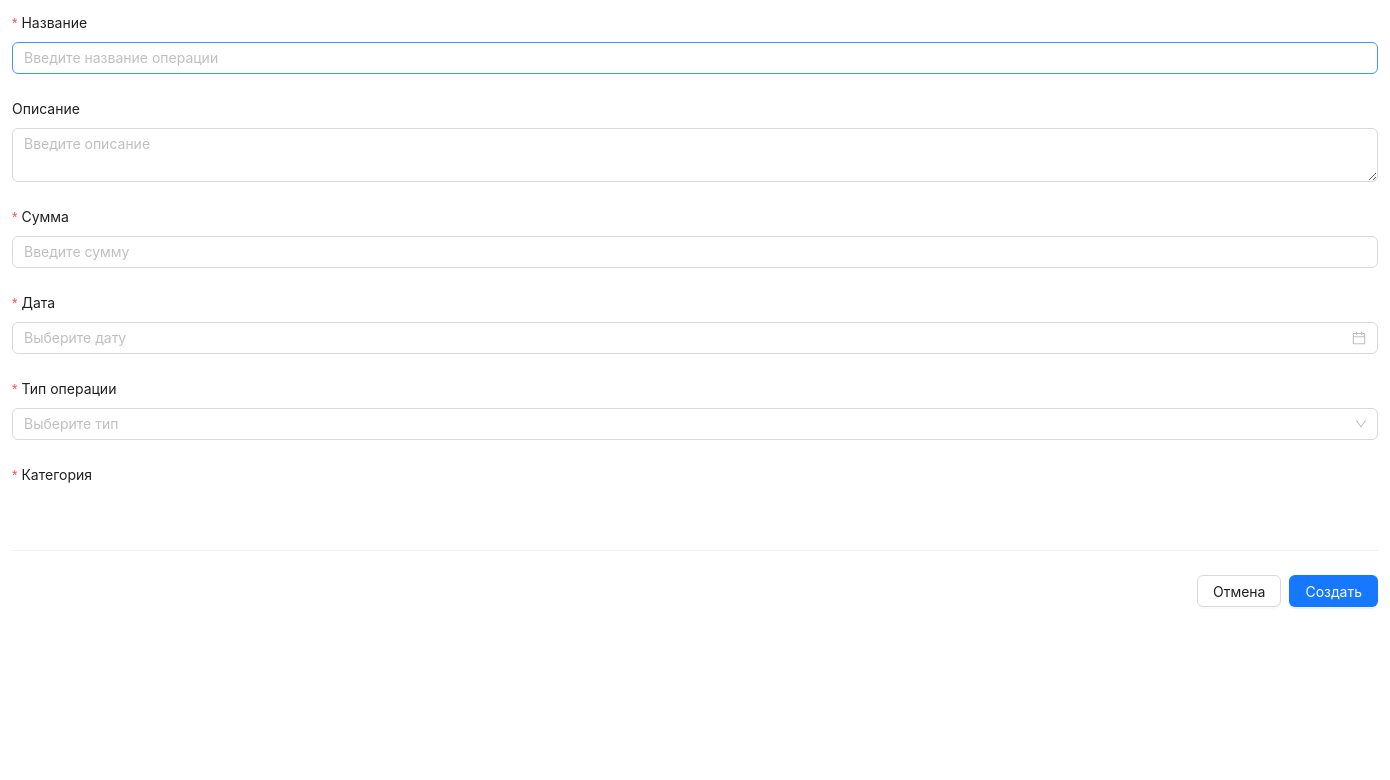
Scenario: OperationForm › Валидация формы › должен показывать ошибку при пустом названии
The image size is (1390, 780).
Click the button "Создать" at x=1334, y=591, box [1290,575,1378,607]
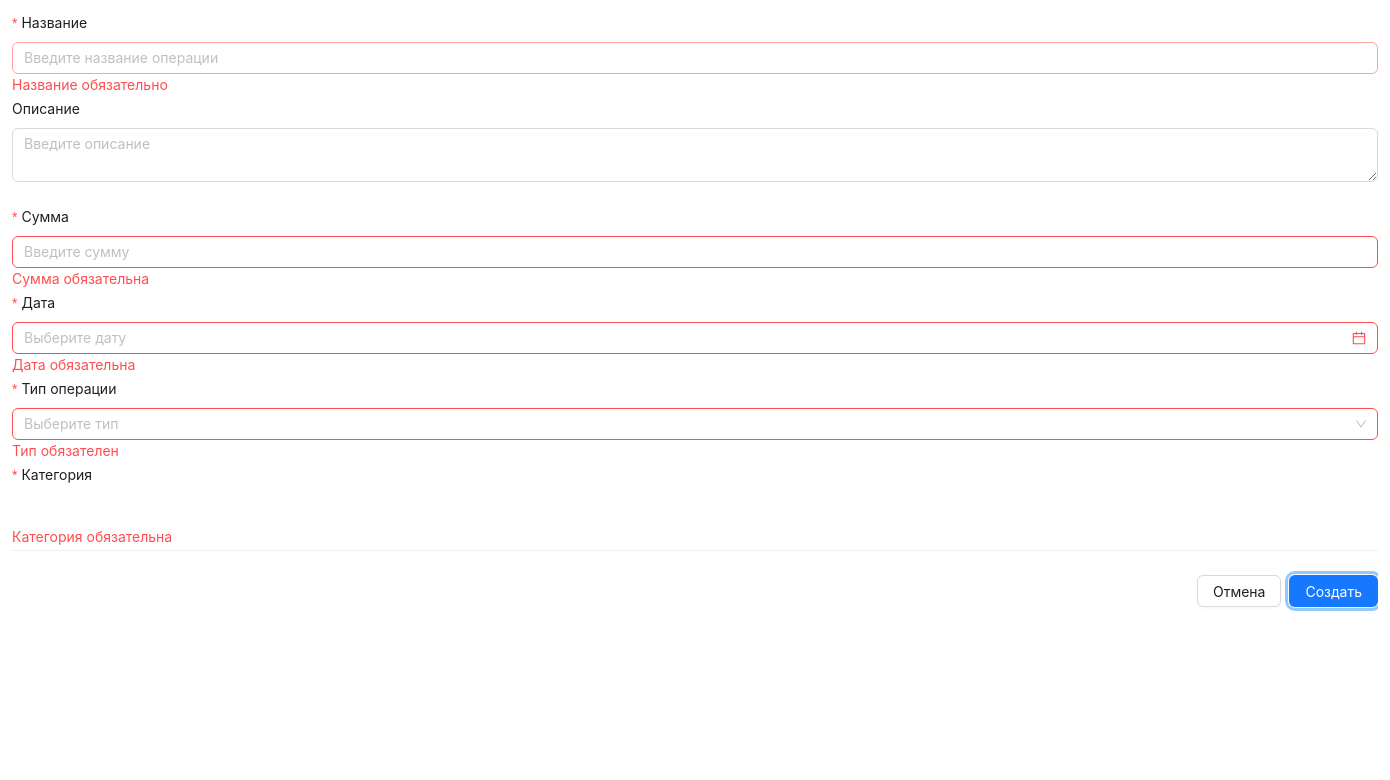
Expected: the text "Название обязательно" is shown, [12,76,168,93]
